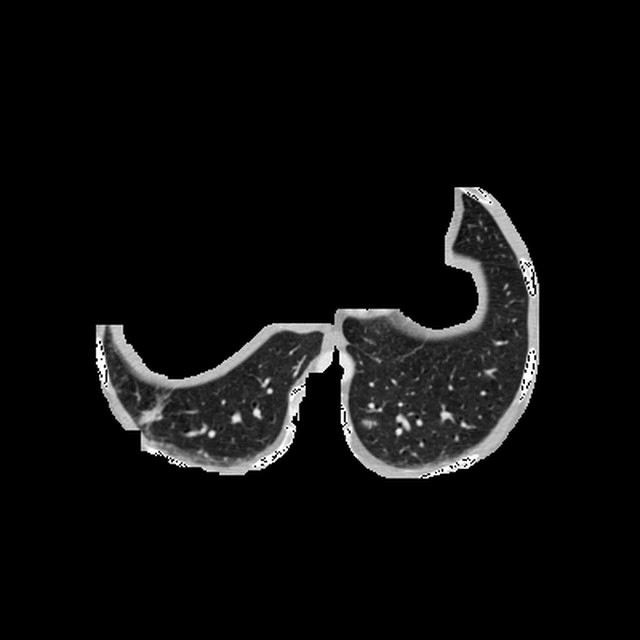PN: (365, 418, 374, 427)
